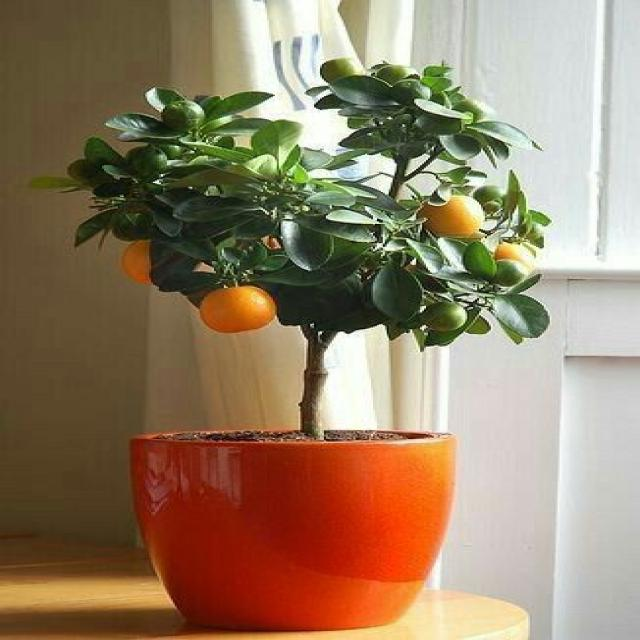level 1: (422, 301, 466, 334), (487, 256, 530, 285)
level 4: (119, 238, 198, 286), (199, 285, 277, 332), (415, 196, 487, 237), (482, 240, 538, 278)
